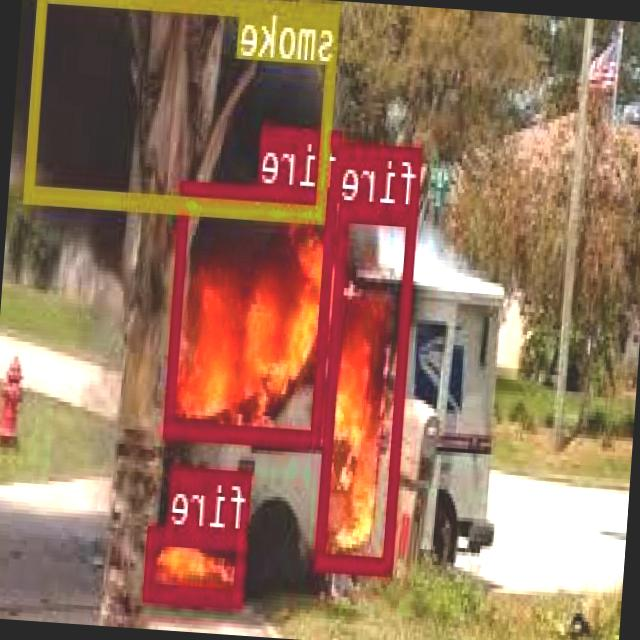fire: (166, 180, 339, 446), (318, 202, 420, 570), (146, 522, 249, 604)
smoke: (26, 0, 341, 217)
